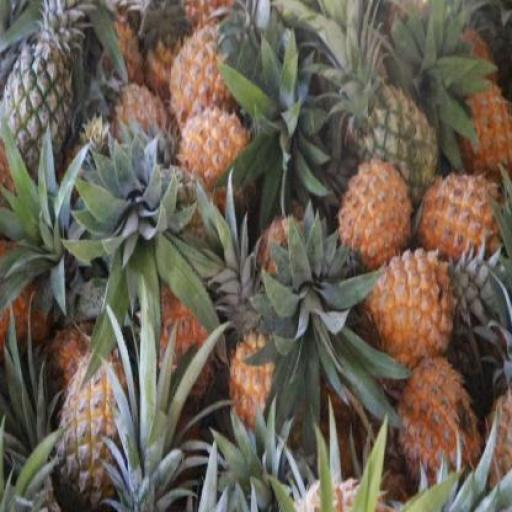------------------------------: (60, 354, 130, 490)
Pineapple - v8 v1: (394, 357, 484, 489), (367, 246, 453, 369), (339, 156, 415, 271), (419, 170, 503, 266), (168, 26, 239, 128), (178, 108, 250, 197)
